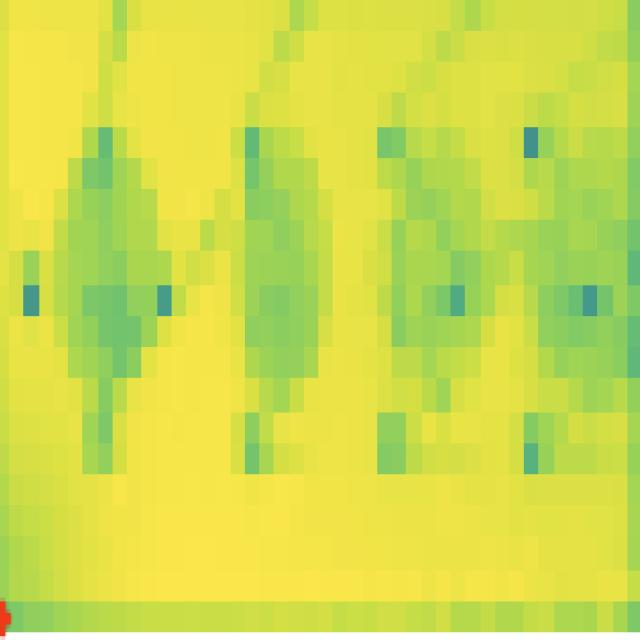Concrete: (511, 81, 640, 420)
Glass: (365, 62, 493, 417)
Metal: (38, 98, 178, 422)
Wood: (218, 92, 336, 415)
